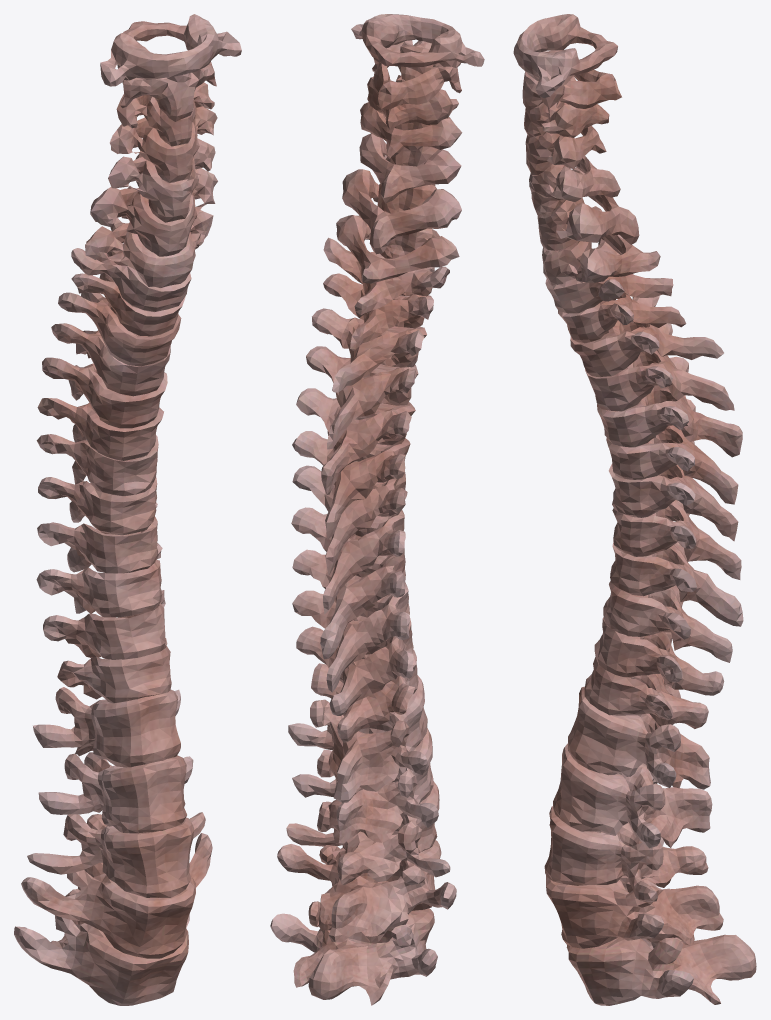
The model's file is SubTool-0-12960644.OBJ.
3 views of the same model, side by side, from view 1: azimuth 30°, elevation 25°; view 2: azimuth 150°, elevation 25°; view 3: azimuth 270°, elevation 25° (orthographic). The views are drawn at different scales.
Visible parts, largest first — view 1: Group29, Group27, Group25, Group24, Group30, ZBrush_defualt_group, Group21, Group22, Group7, Group20, Group23, Group11 (+12 smaller); view 2: Group30, Group29, Group24, Group25, Group27, Group7, ZBrush_defualt_group, Group20, Group16, Group21, Group11, Group19 (+12 smaller); view 3: Group30, Group25, Group29, Group24, Group27, Group16, Group20, ZBrush_defualt_group, Group21, Group15, Group22, Group19 (+12 smaller).
Part boxes in pixels (box(x1,y1,x2,y2)): Group29: box(21, 833, 212, 958); Group27: box(27, 812, 205, 897); Group25: box(38, 752, 193, 833); Group24: box(33, 687, 180, 767); Group30: box(14, 889, 189, 1005); ZBrush_defualt_group: box(100, 14, 241, 86); Group21: box(36, 543, 162, 617); Group22: box(43, 590, 165, 659); Group7: box(90, 168, 217, 256); Group20: box(37, 502, 158, 573); Group23: box(57, 638, 171, 703); Group11: box(85, 210, 213, 287); Group30: box(270, 901, 437, 1005); Group29: box(277, 840, 456, 942); Group24: box(288, 675, 427, 802); Group25: box(292, 728, 438, 844); Group27: box(286, 781, 450, 885); Group7: box(342, 169, 461, 254); ZBrush_defualt_group: box(351, 14, 484, 67); Group20: box(292, 549, 405, 659); Group16: box(296, 388, 415, 494); Group21: box(292, 582, 409, 692); Group11: box(336, 215, 459, 283); Group19: box(291, 507, 405, 613); Group30: box(566, 934, 756, 1005); Group25: box(553, 743, 712, 848); Group29: box(546, 837, 723, 948); Group24: box(567, 685, 710, 789); Group27: box(544, 806, 708, 901); Group16: box(597, 356, 742, 457); Group20: box(610, 542, 743, 626); ZBrush_defualt_group: box(513, 14, 617, 98); Group21: box(603, 581, 732, 662); Group15: box(585, 323, 734, 411); Group22: box(594, 617, 724, 695); Group19: box(612, 500, 741, 579).
Size of the model in its own units: 0.7812 by 4 by 0.9116.
Materials: 1 (1 with a texture image).
